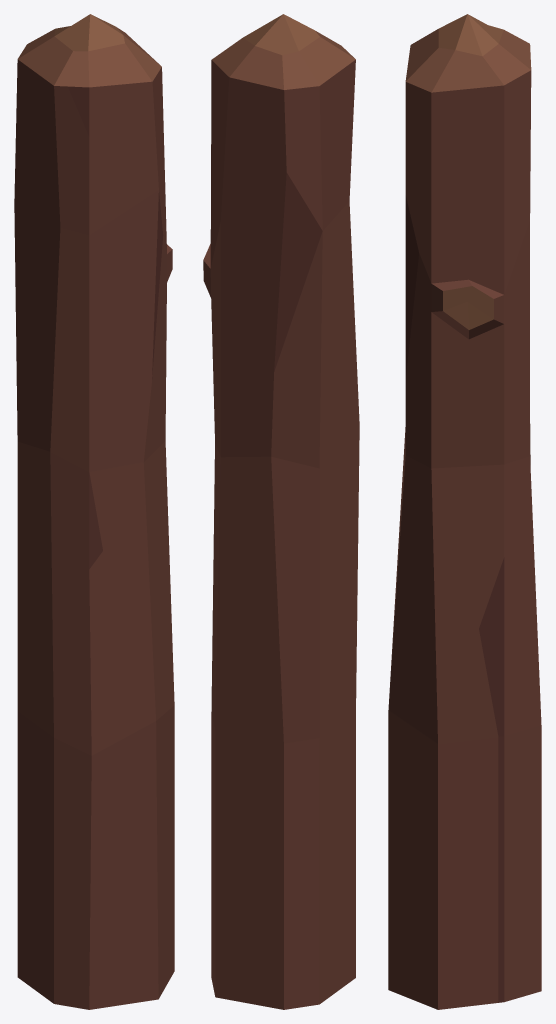
The model's file is log_3.fbx.
3 renders of one model, left to right at view 1: azimuth 30°, elevation 25°; view 2: azimuth 150°, elevation 25°; view 3: azimuth 270°, elevation 25°, orthographic.
Parts seen in each view (by area): view 1: log_3; view 2: log_3; view 3: log_3.
Part boxes in pixels (x1=…): log_3: x1=14, y1=14, x2=174, y2=1009; log_3: x1=203, y1=14, x2=359, y2=1009; log_3: x1=388, y1=14, x2=541, y2=1009.
Size of the model in its own units: 18.83 by 135 by 19.51.
